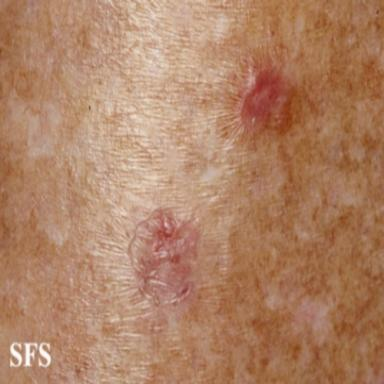Porokeratosis: (129, 208, 200, 306), (235, 56, 295, 140)
